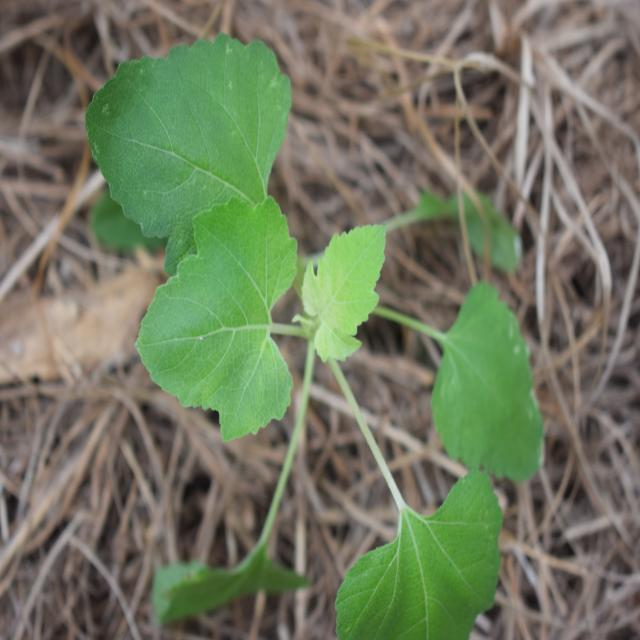cocklebur: (87, 28, 519, 594)
